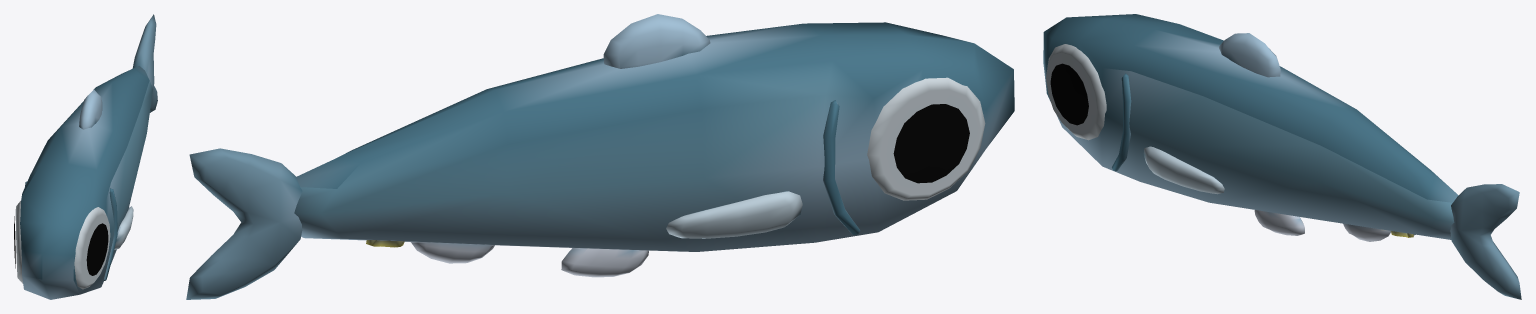
The model's file is Sardine.glb.
3 renders of one model, left to right at view 1: azimuth 30°, elevation 25°; view 2: azimuth 150°, elevation 25°; view 3: azimuth 270°, elevation 25°, orthographic. The views are drawn at different scales.
Parts seen in each view (by area): view 1: 144; view 2: 144; view 3: 144.
Part boxes in pixels (<box>): 144: <box>14,14,157,299</box>; 144: <box>186,14,1014,299</box>; 144: <box>1043,14,1521,299</box>.
Size of the model in its own units: 0.5573 by 0.269 by 0.6148.
